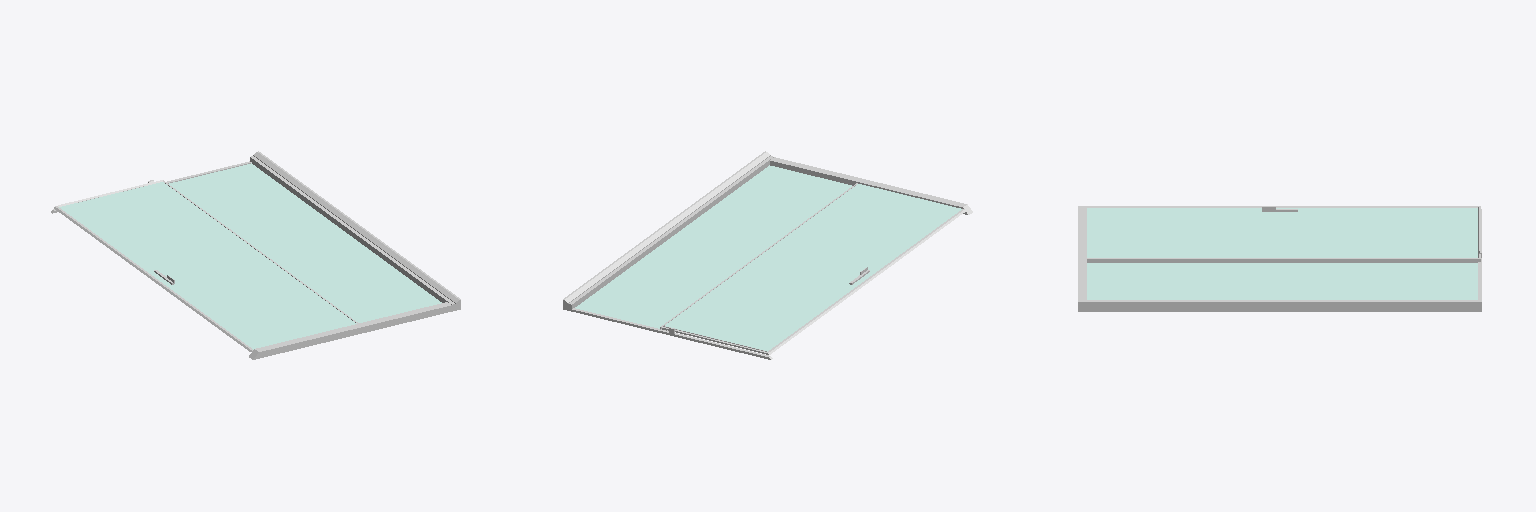
Rendered from Sanitary_Showers_Ideal-Standard_STRADA-C-E-120-RH-MATT-WHITE-IC.obj.
The picture shows the model from 3 angles: view 1: azimuth 30°, elevation 25°; view 2: azimuth 150°, elevation 25°; view 3: azimuth 270°, elevation 25°; orthographic projection.
Parts seen in each view (by area): view 1: default; view 2: default; view 3: default.
Boxes of the visible parts, x1=… form: default: x1=51, y1=151, x2=460, y2=359; default: x1=563, y1=151, x2=972, y2=359; default: x1=1078, y1=206, x2=1481, y2=311.
Size of the model in its own units: 1190 by 56.5 by 2000.